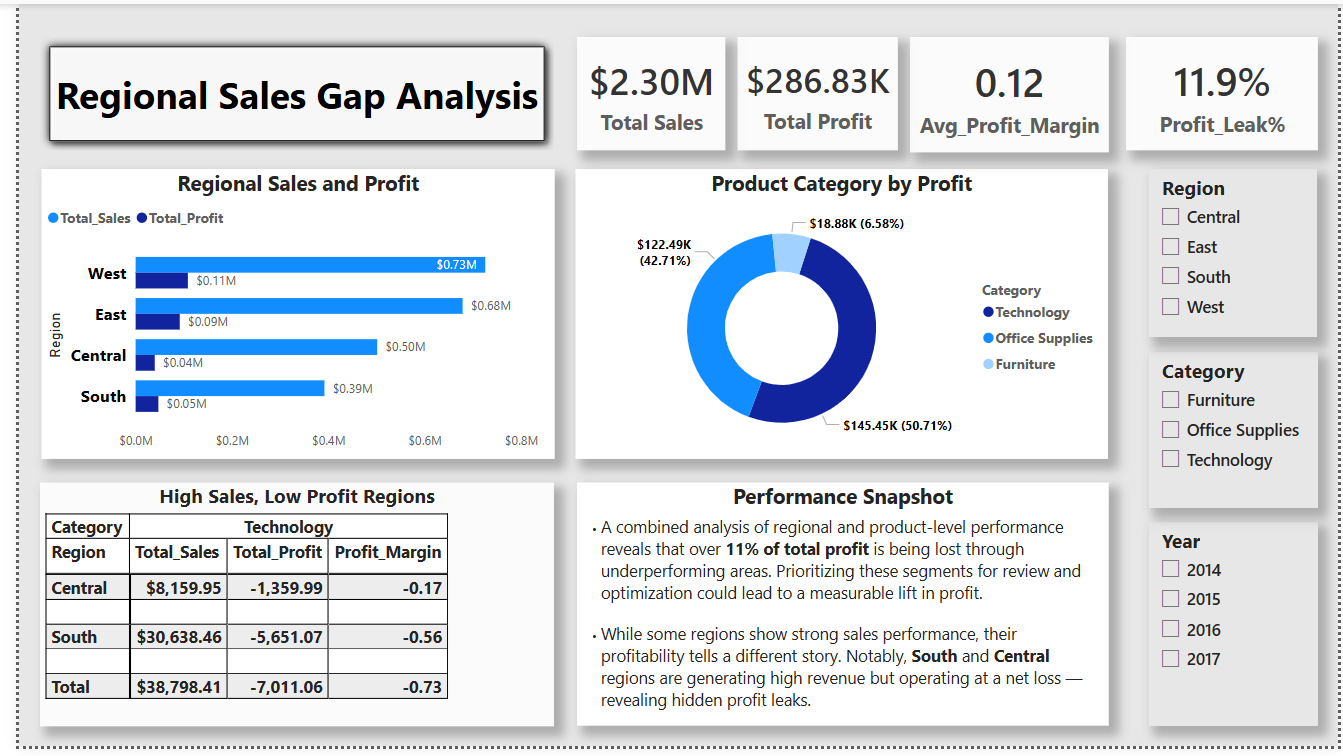

The page's visual inventory and layout, read from the dashboard file:
{"tool":"powerbi","page":{"name":"Dashboard","canvas":[1280,720],"ordinal":0},"visuals":[{"type":"clusteredBarChart","title":" Regional Sales and Profit","fields":{"Category":["RegionalCategorySales.Region"],"Y":["Sum(RegionalCategorySales.Total_Sales)","Sum(RegionalCategorySales.Total_Profit)"]},"box":[21.2,160.5,498.2,281.6],"z":0},{"type":"pivotTable","title":"High Sales, Low Profit Regions","fields":{"Rows":["HighSalesLowProfitRegion.Region"],"Values":["Sum(HighSalesLowProfitRegion.Total_Sales)","Sum(HighSalesLowProfitRegion.Total_Profit)","Sum(HighSalesLowProfitRegion.Profit_Margin)"],"Columns":["RegionalCategorySales.Category"]},"box":[20.7,464.5,1037.1,237],"z":1000},{"type":"donutChart","title":"Product Category by Profit","fields":{"Category":["RegionalCategorySales.Category"],"Y":["Sum(RegionalCategorySales.Total_Profit)"]},"box":[540.6,160.5,516.3,281.6],"z":2000},{"type":"slicer","fields":{"Values":["RegionalCategorySales.Region"]},"box":[1096.3,160.5,163.5,163.5],"z":3000},{"type":"slicer","fields":{"Values":["HighSellingLowProfitMaginProducts.Category"]},"box":[1095.9,337.2,163.8,151.1],"z":4000},{"type":"slicer","fields":{"Values":["RegionalCategorySales.Year"]},"box":[1095.9,502.6,163.8,198.8],"z":5000},{"type":"card","fields":{"Values":["MeasureTable.Total Sales"]},"box":[626.6,32.4,187.8,110.1],"z":6000},{"type":"card","fields":{"Values":["MeasureTable.Total Profit"]},"box":[827.4,32.4,210.5,110.1],"z":7000},{"type":"card","title":"Avg Profit Margin","fields":{"Values":["MeasureTable.Avg_Profit_Margin"]},"box":[1057.4,32.4,202.4,111.7],"z":8000},{"type":"shape","box":[21,32.4,594.3,110.1],"z":9000}]}

Visuals, with their boxes in screenshot pixels (x1, y1, x2, y2), scaled from the page's 1280x720 canvas onto the 1343x756 screenshot:
" Regional Sales and Profit" clusteredBarChart: 22,169,545,464
"High Sales, Low Profit Regions" pivotTable: 22,488,1110,737
"Product Category by Profit" donutChart: 567,169,1109,464
slicer - RegionalCategorySales.Region: 1150,169,1322,340
slicer - HighSellingLowProfitMaginProducts.Category: 1150,354,1322,513
slicer - RegionalCategorySales.Year: 1150,528,1322,736
card - MeasureTable.Total Sales: 657,34,854,150
card - MeasureTable.Total Profit: 868,34,1089,150
"Avg Profit Margin" card: 1109,34,1322,151
shape: 22,34,646,150
